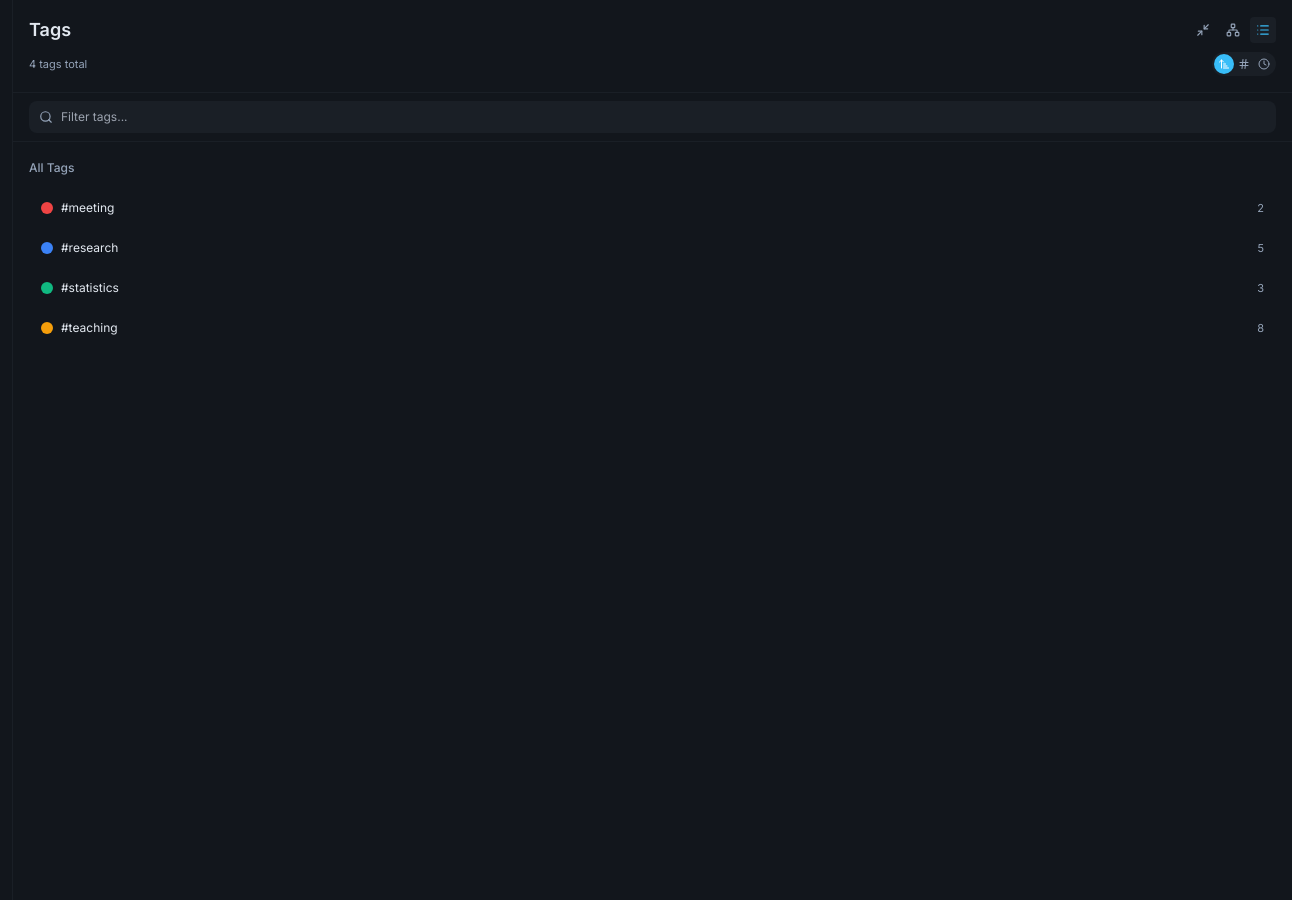
Test: TagsPanel Component › Tag Deletion › closes context menu when clicking outside
Expected: the text "#research" is shown, [61,238,118,258]
Open context menu
Right-click the button "#research 5" at [94, 248], box [29,230,1276,266]
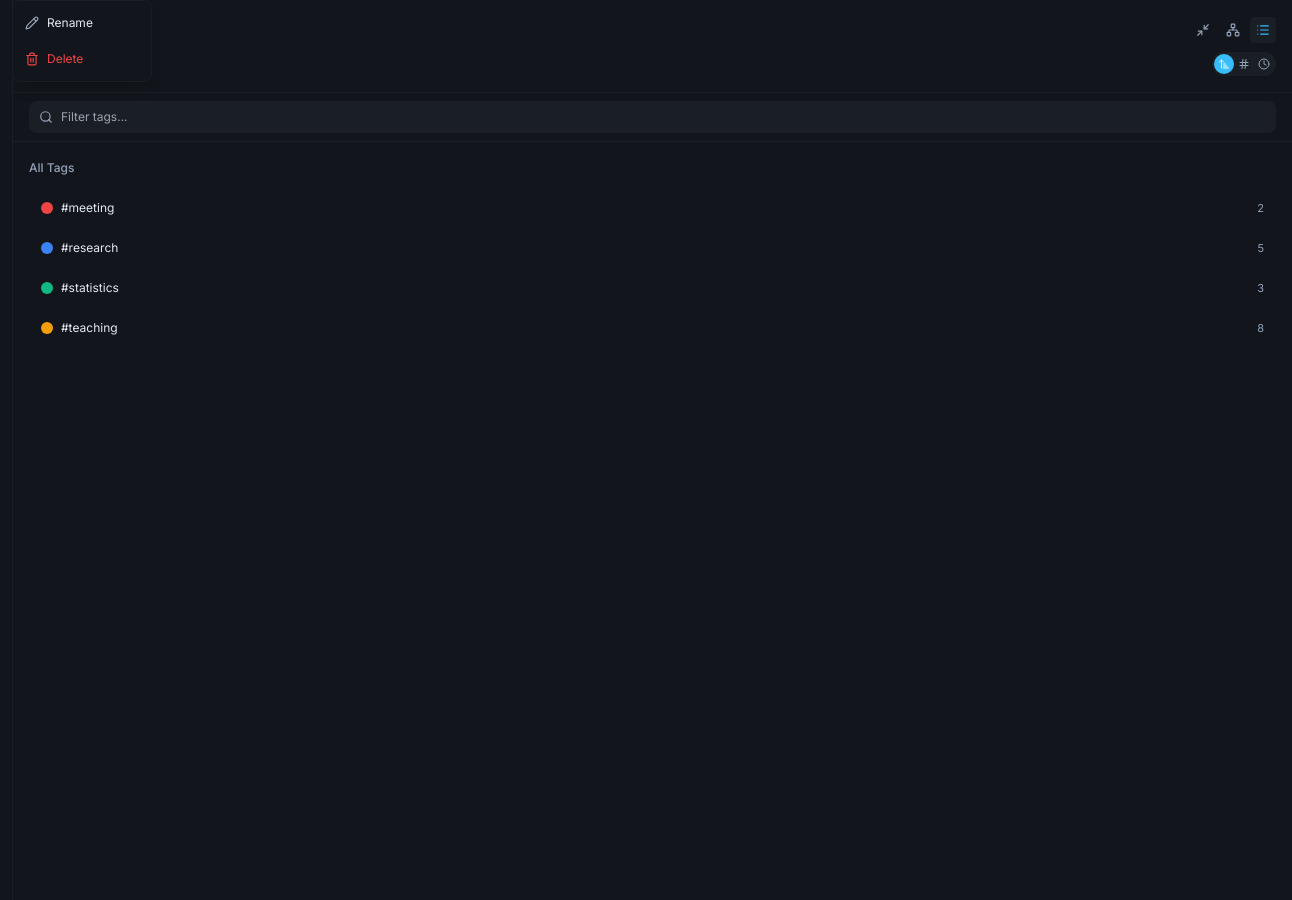
Result: the button "Rename" is shown at [13,5,151,41]
Click outside
Click the element that starts with "Tags" at [652, 450], box [12,0,1291,899]
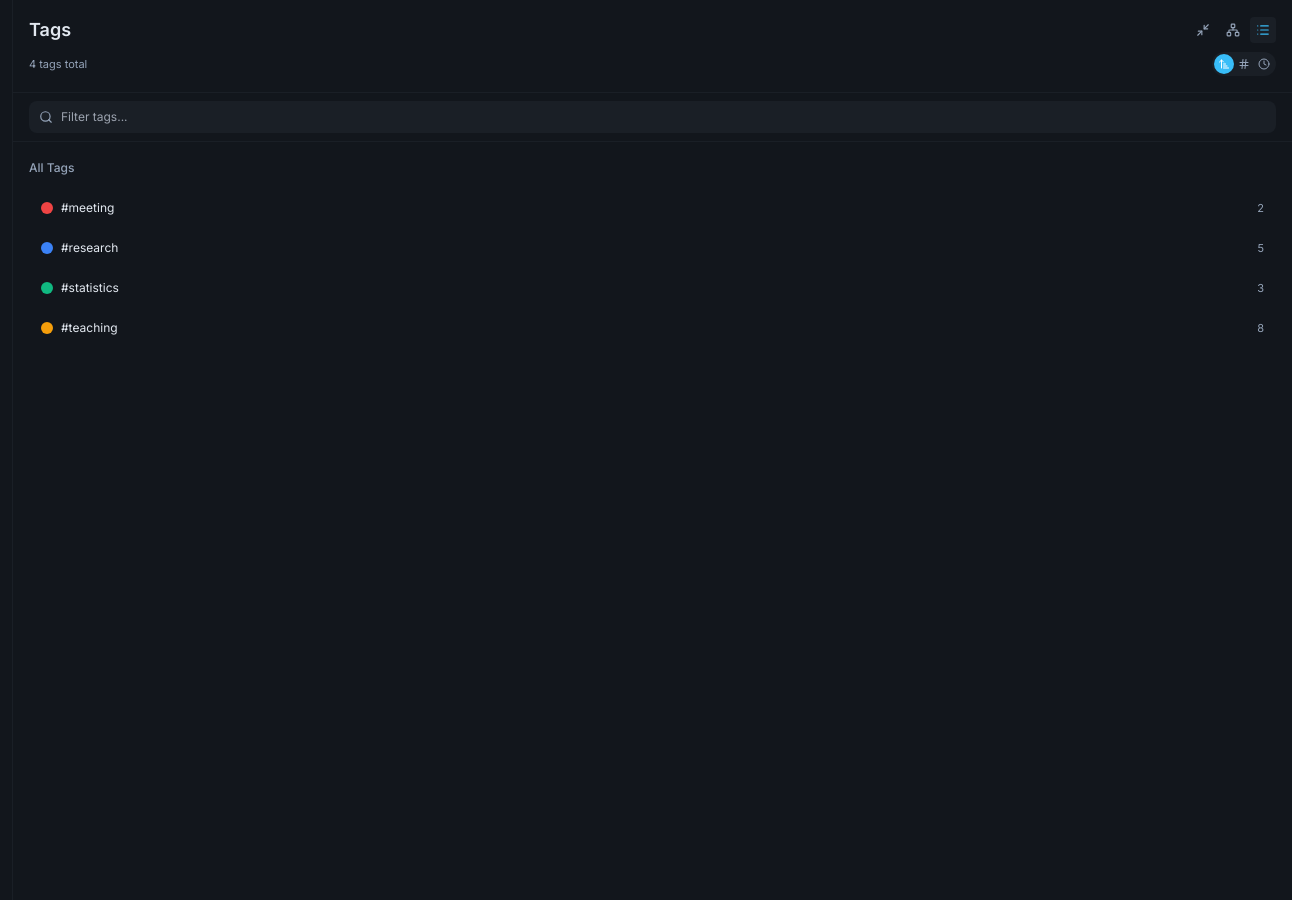
Result: the button "Rename" is gone
